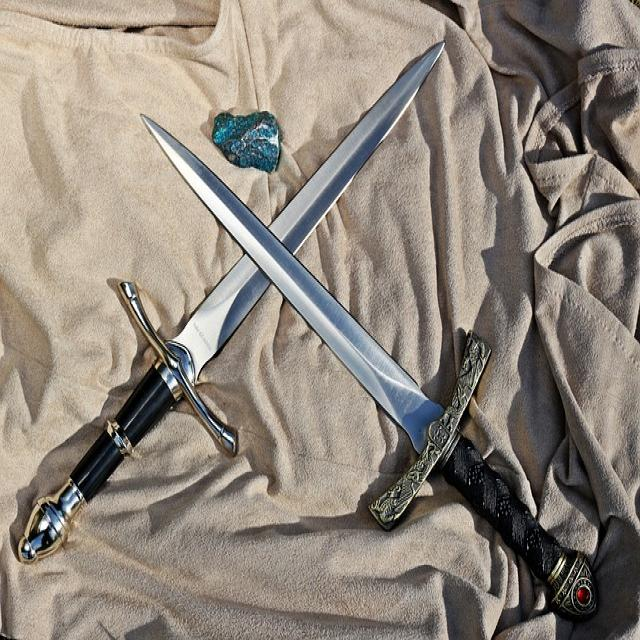Gun: (113, 139, 611, 623), (44, 75, 479, 576)
